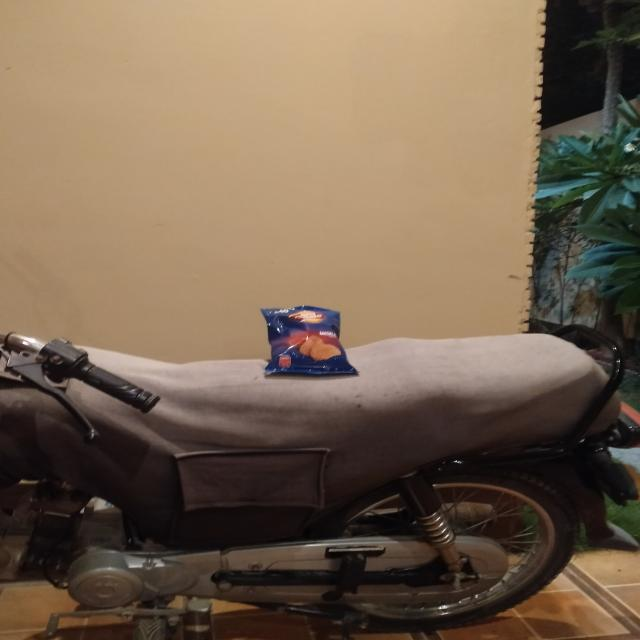Plastic: (264, 300, 356, 378)
